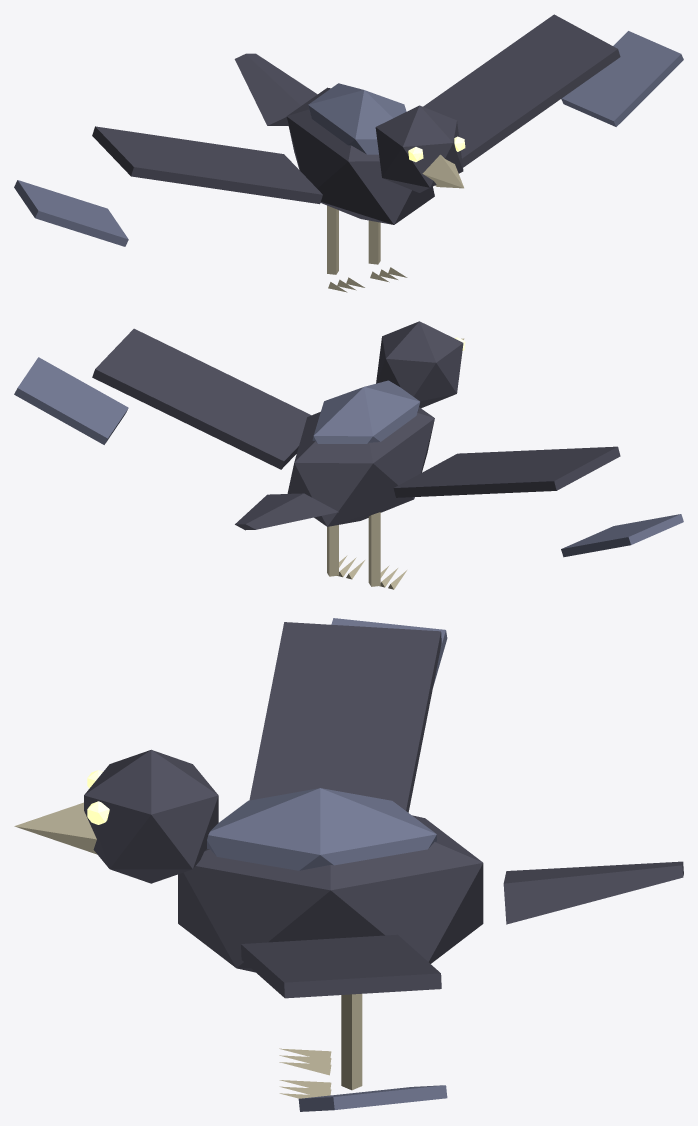
File: carrion_crow.glb
3 views of the same model, one above another, from view 1: azimuth 30°, elevation 25°; view 2: azimuth 150°, elevation 25°; view 3: azimuth 270°, elevation 25° (orthographic). The views are drawn at different scales.
Parts seen in each view (by area): view 1: carrion_crow; view 2: carrion_crow; view 3: carrion_crow.
Part boxes in pixels (<box>): carrion_crow: <box>14,14,683,292</box>; carrion_crow: <box>14,321,683,589</box>; carrion_crow: <box>14,618,683,1111</box>.
Size of the model in its own units: 2.17 by 0.6946 by 1.27.
